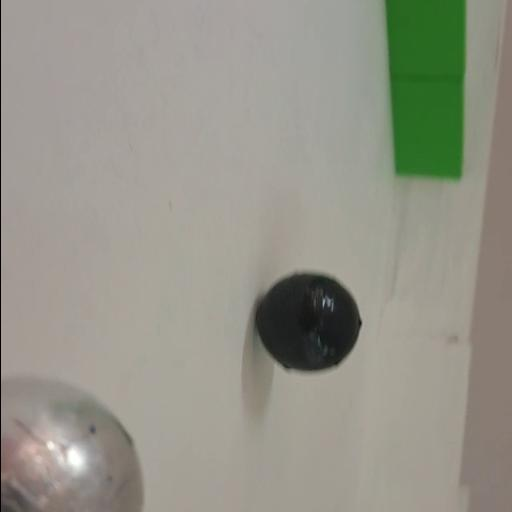alive: (0, 373, 138, 512)
dead: (252, 270, 362, 374)
